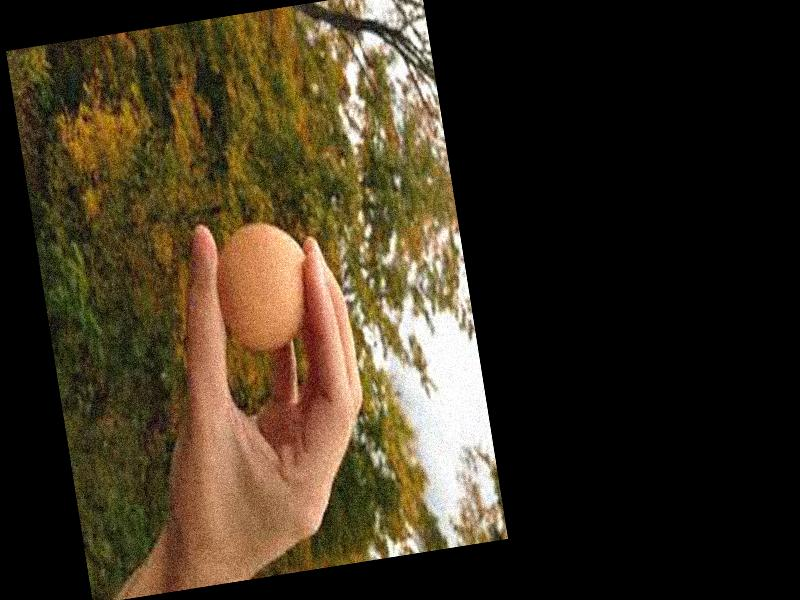Eggs: (208, 217, 320, 354)
